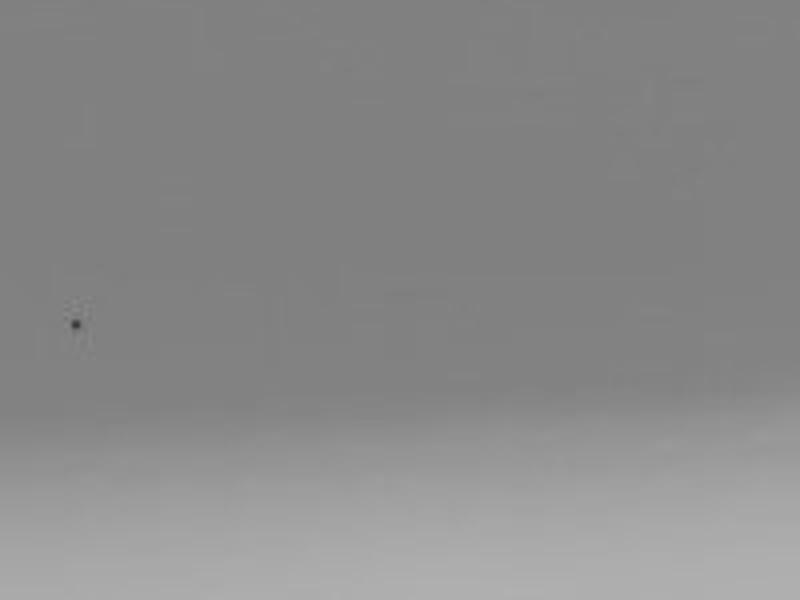defect: (65, 311, 86, 335)
